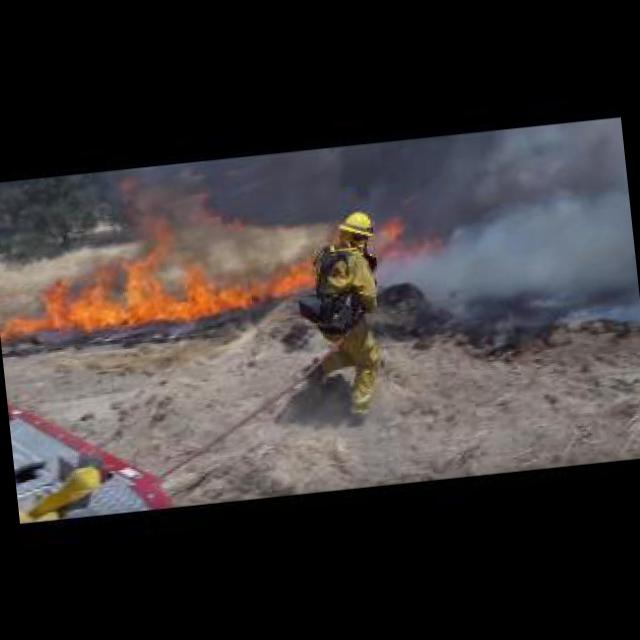fire: (0, 200, 323, 355), (379, 208, 440, 254)
smoke: (196, 190, 242, 232)
